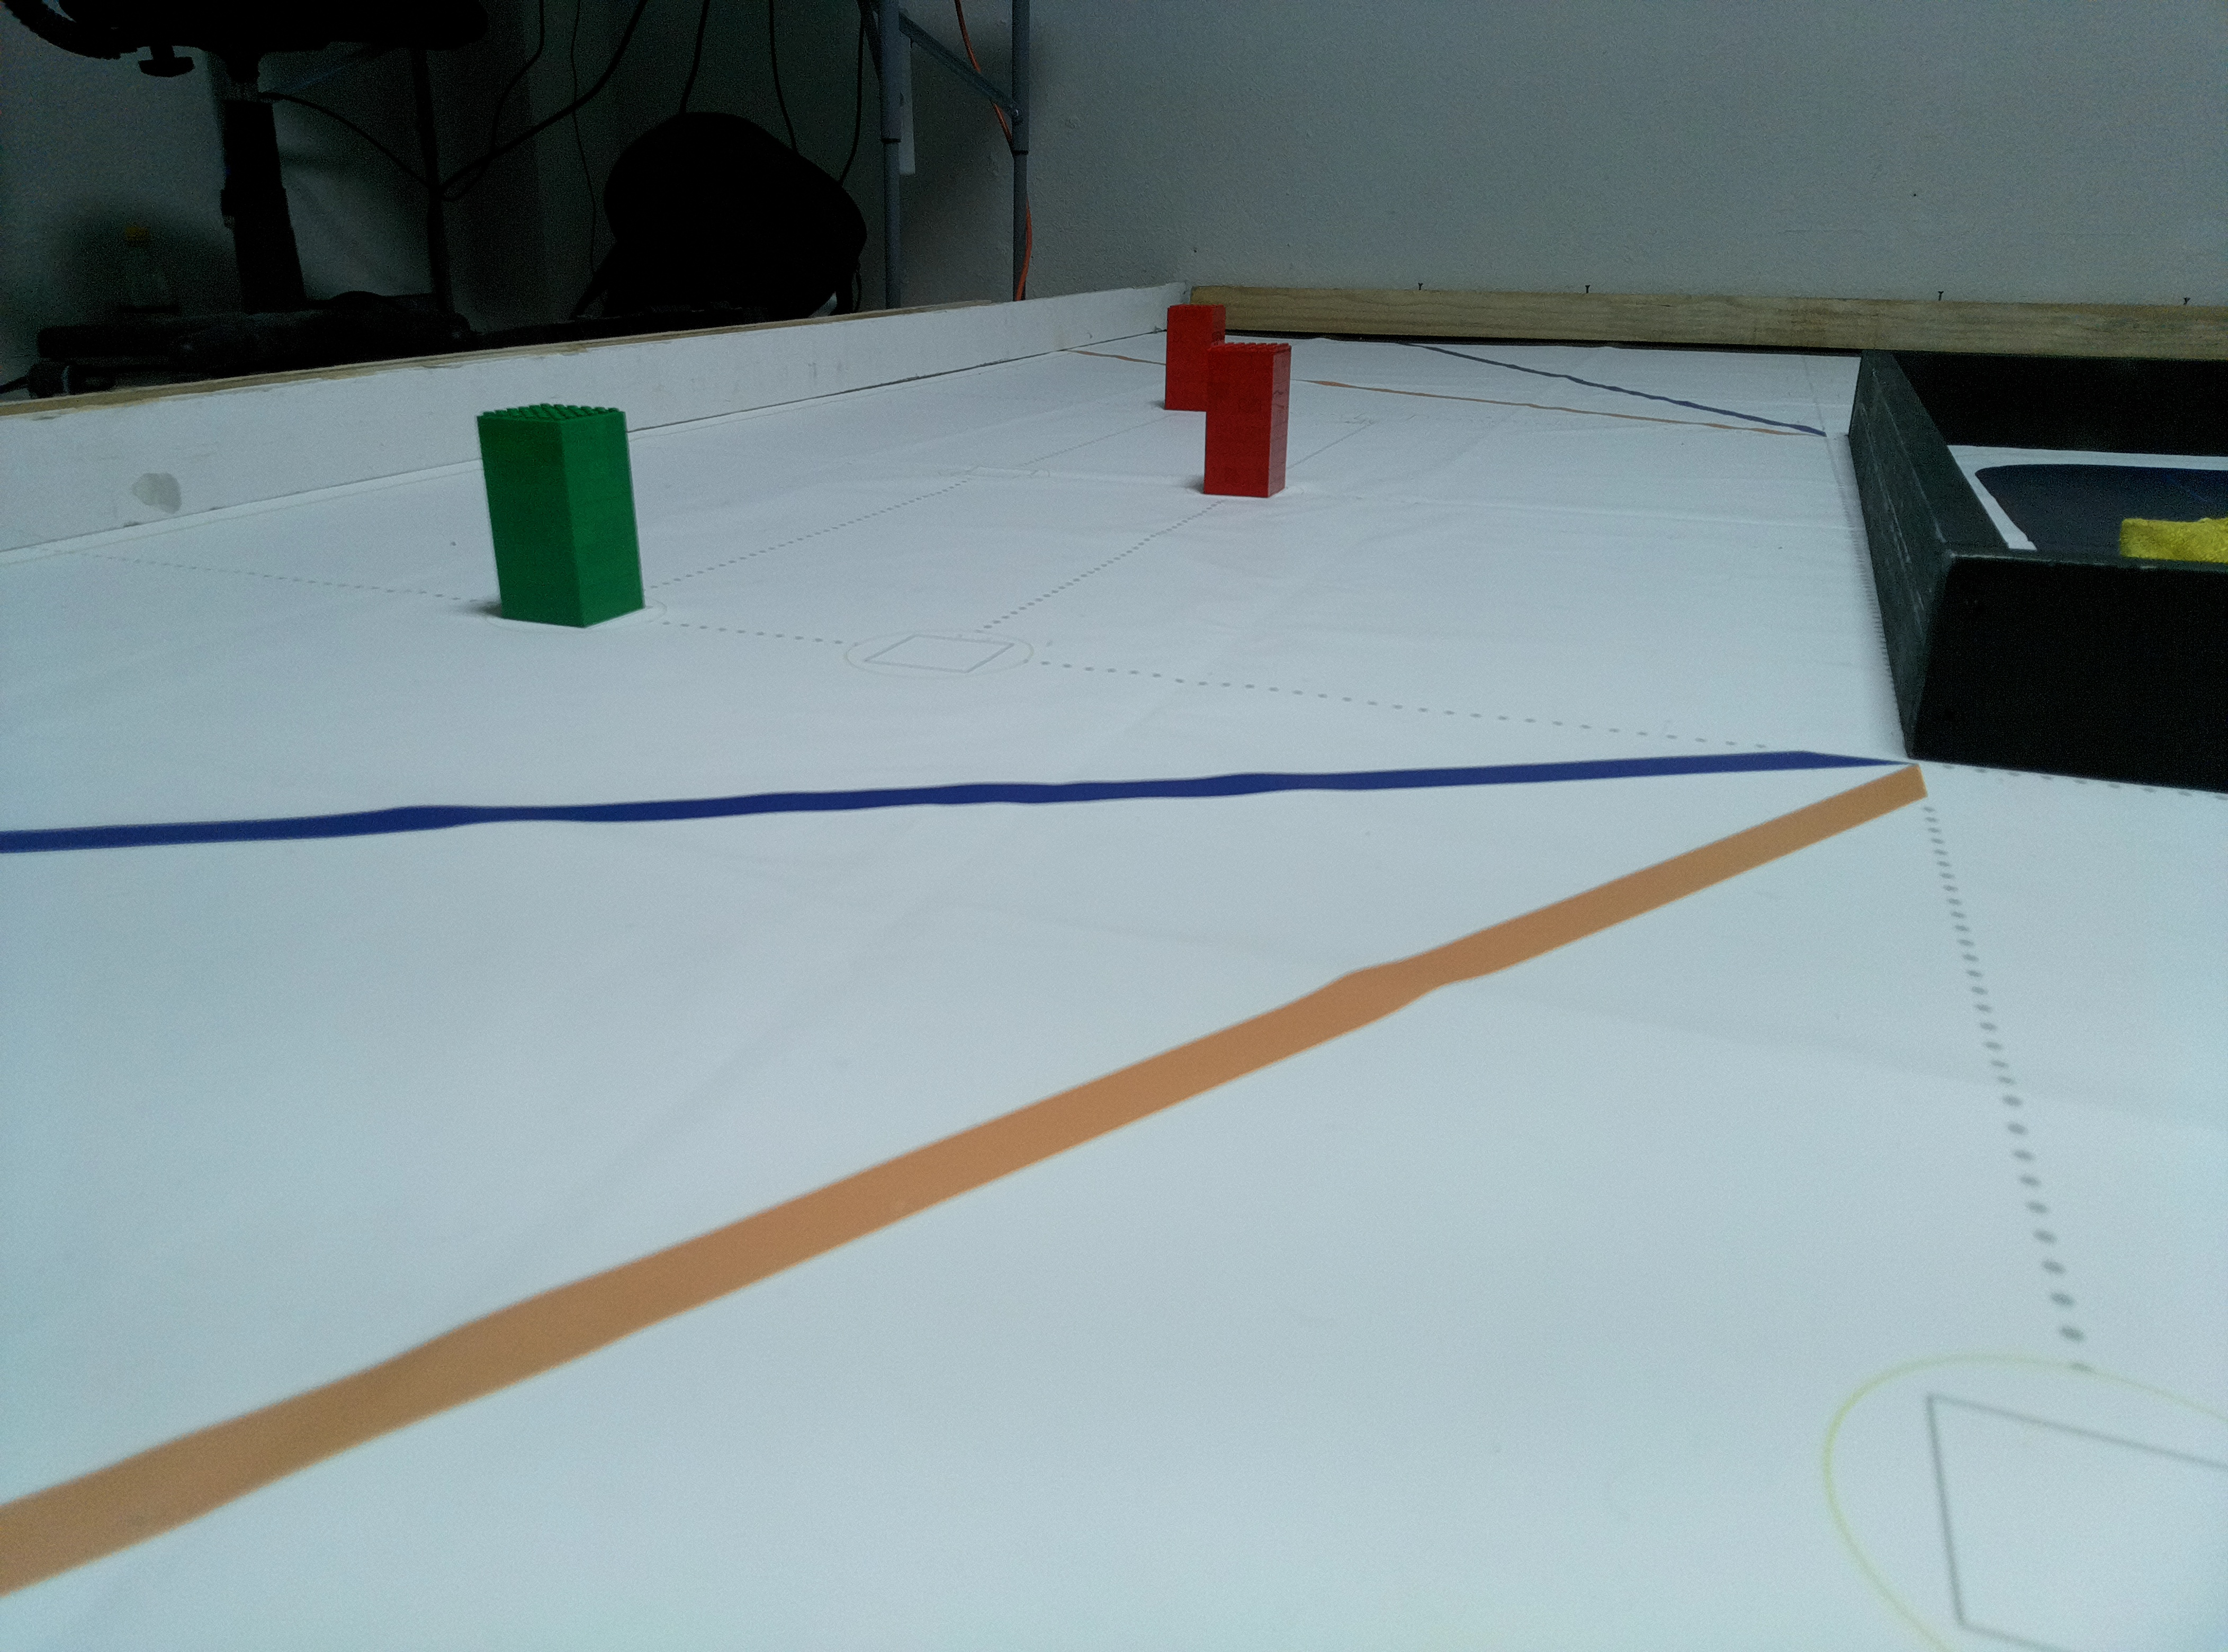greenbox: (474, 401, 651, 628)
redbox: (1201, 342, 1294, 498), (1163, 298, 1227, 413)
